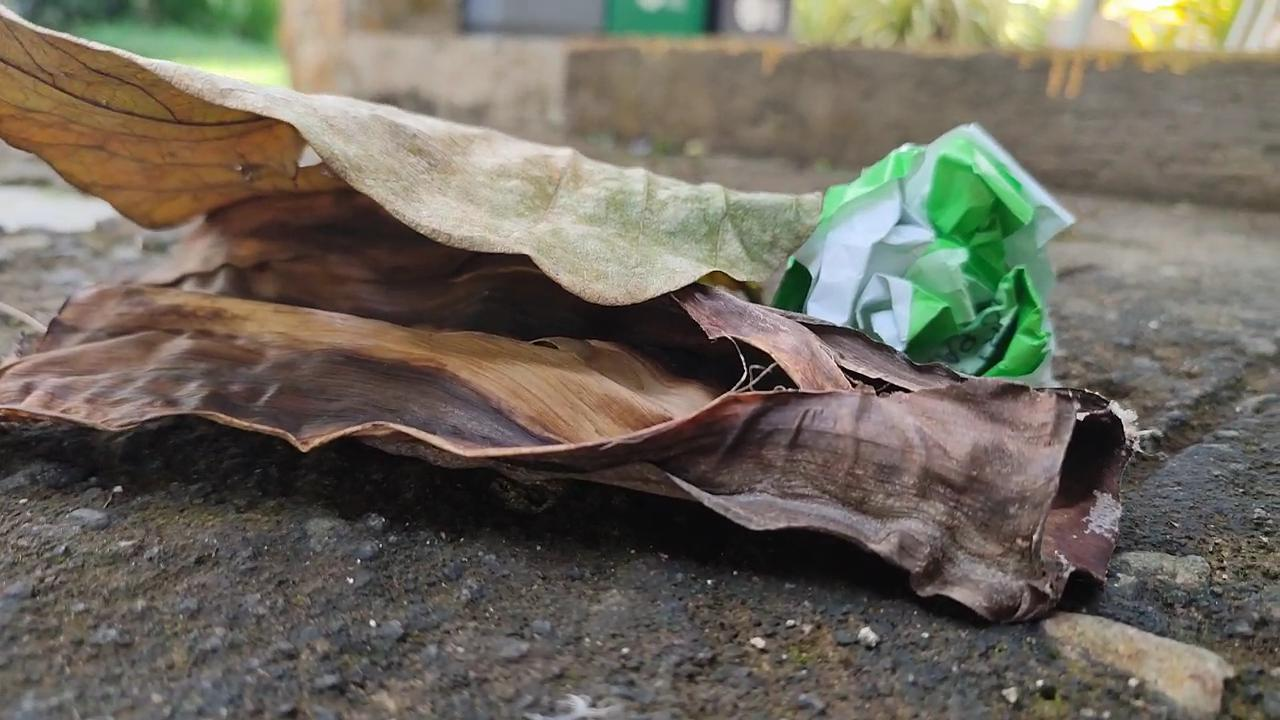Paper: (821, 107, 1097, 396)
